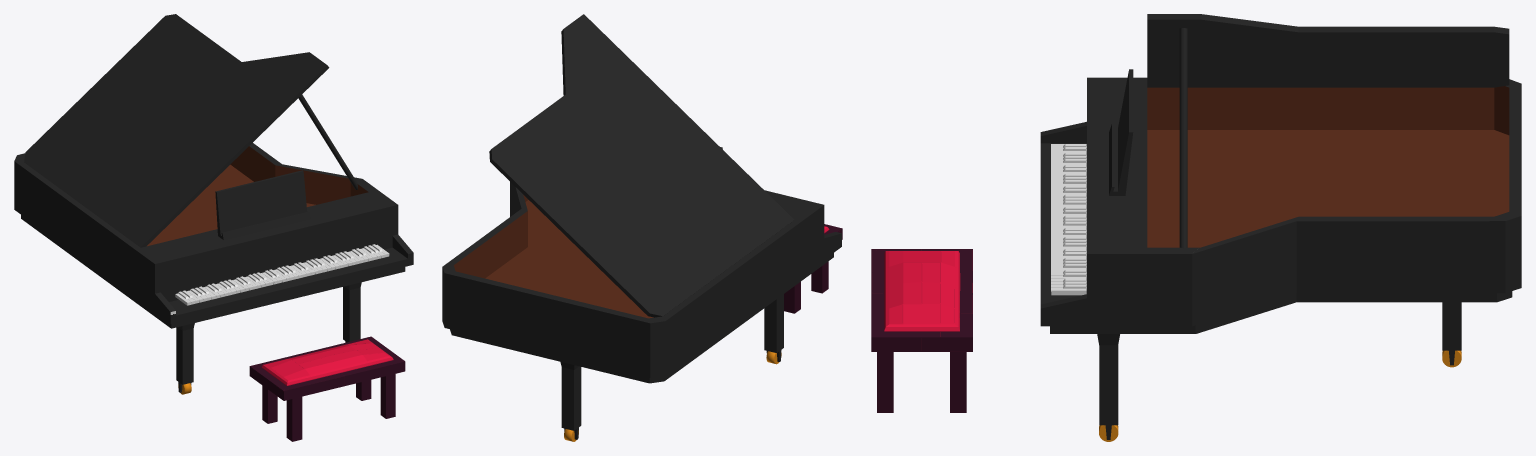
The model's file is Piano.fbx.
The picture shows the model from 3 angles, left to right: view 1: azimuth 30°, elevation 25°; view 2: azimuth 150°, elevation 25°; view 3: azimuth 270°, elevation 25°; orthographic projection. The views are drawn at different scales.
Parts seen in each view (by area): view 1: Cube.002, Chairpiano; view 2: Cube.002, Chairpiano; view 3: Cube.002, Chairpiano.
Boxes of the visible parts, x1,y1,x2,y2 form: Cube.002: [14, 14, 413, 394]; Chairpiano: [249, 336, 405, 441]; Cube.002: [442, 14, 841, 441]; Chairpiano: [784, 224, 842, 313]; Cube.002: [1040, 14, 1521, 441]; Chairpiano: [871, 249, 972, 412].
Size of the model in its own units: 200 by 221 by 311.
Materials: 7 (7 with a texture image).
